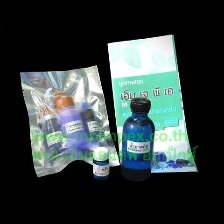book: (103, 29, 199, 175)
insecticide: (115, 94, 157, 187), (54, 94, 88, 152), (38, 111, 65, 156), (79, 106, 105, 144), (88, 144, 112, 183)
